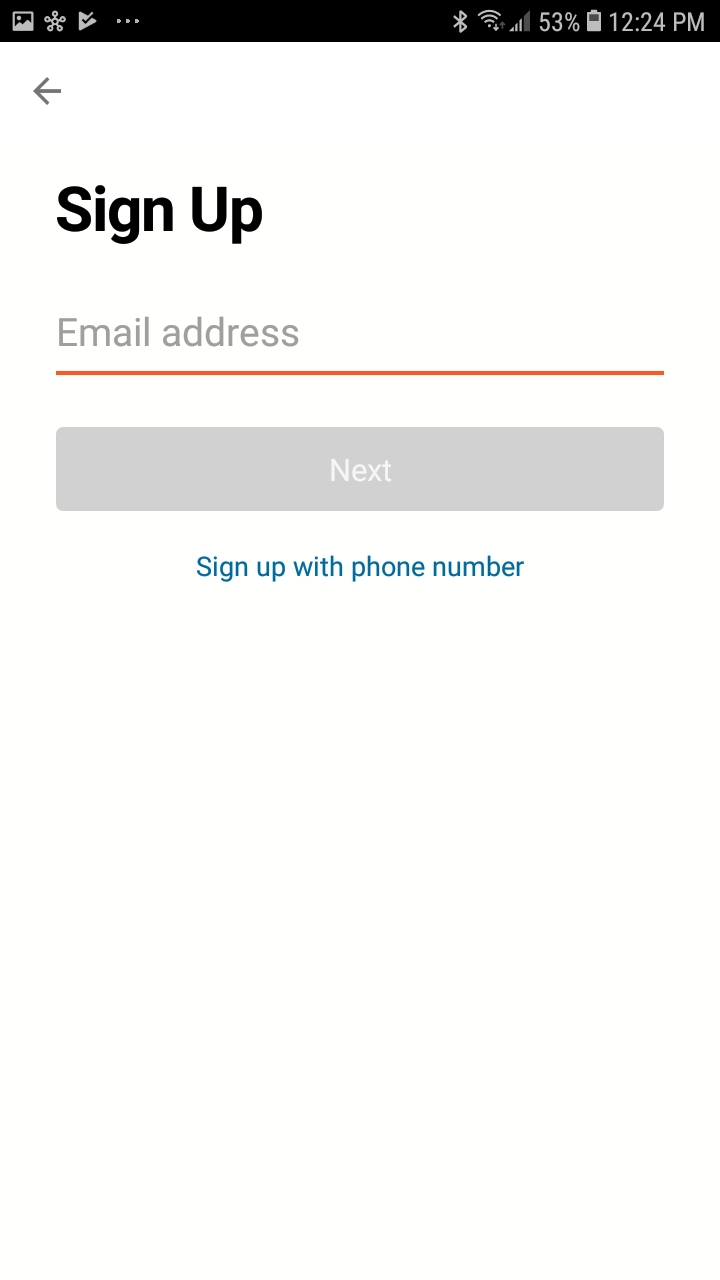EditText: (56, 316, 665, 376)
Icon: (33, 78, 62, 107)
Text: (57, 185, 263, 245), (197, 555, 525, 583), (59, 317, 299, 348)
TextButton: (56, 427, 664, 512)
UpperTaskBar: (1, 1, 720, 43)
